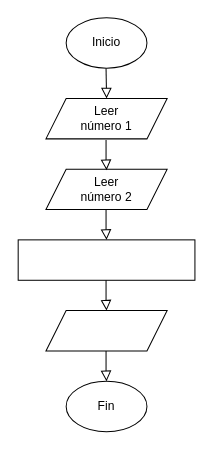
The diagram is 212 pixels wide and 449 high, and some of its shapes have lost their labels. Here are the shapes that lost their labels. From the top down, the box of each, then its label:
(17, 239, 195, 280): número 1 * número 2
(45, 310, 167, 351): Mostrar multiplicación
